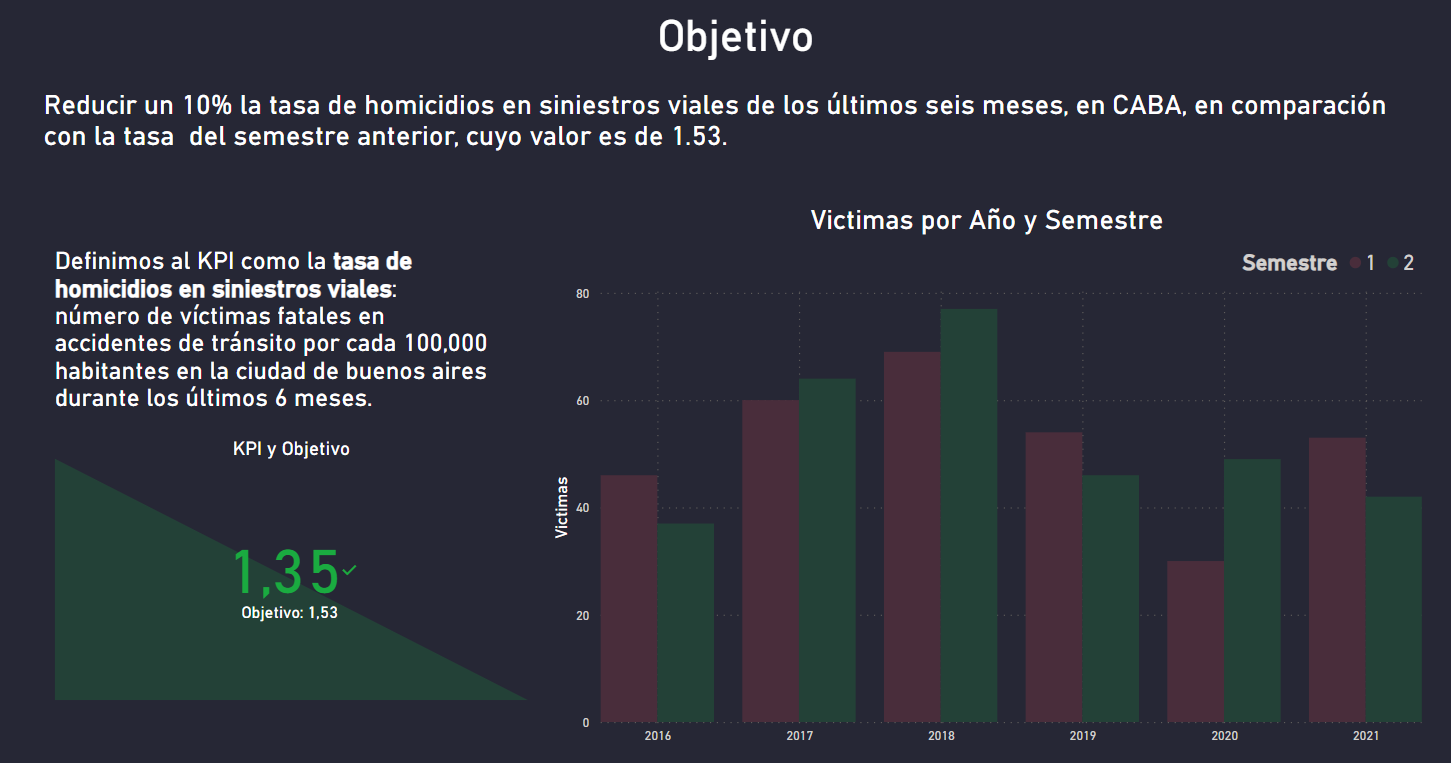

This screenshot's page, from the dashboard's own definition file:
{"tool":"powerbi","page":{"name":"KPI","canvas":[1280,720],"ordinal":4},"visuals":[{"type":"kpi","title":"KPI y Objetivo","fields":{"Indicator":["homicidios.KPI"],"TrendLine":["homicidios.Semestre"],"Goal":["homicidios.Destino"]},"box":[46.5,410,425.9,236.2],"z":0},{"type":"lineClusteredColumnComboChart","title":"Victimas por Año y Semestre","fields":{"Category":["homicidios.fecha.Variación.Jerarquía de fechas.Año"],"Y":["homicidios.Contador"],"Series":["homicidios.Semestre"]},"box":[482.9,205.5,774.4,481.2],"z":1000},{"type":"textbox","box":[46.5,238,406.5,172.1],"z":2000},{"type":"textbox","box":[36.9,29.9,1225.8,175.6],"z":3000}]}

Visuals, with their boxes on the page's 1280x720 design canvas (x1, y1, x2, y2). These are canvas units, not pixel positions in the 1451x763 screenshot, which may show the page scaled, cropped or inside an application window:
"KPI y Objetivo" kpi: (46, 410, 472, 646)
"Victimas por Año y Semestre" lineClusteredColumnComboChart: (483, 206, 1257, 687)
textbox: (46, 238, 453, 410)
textbox: (37, 30, 1263, 206)
